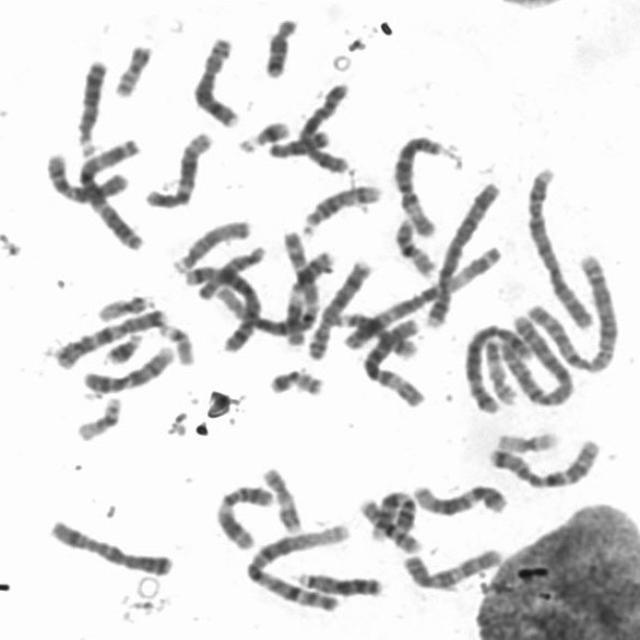A1: (216, 225, 322, 333), (240, 518, 352, 613)
A2: (514, 248, 622, 375), (491, 304, 579, 408)
A3: (337, 240, 507, 350), (72, 132, 148, 254)
B4: (418, 174, 504, 330), (522, 162, 595, 330)
B5: (182, 260, 264, 354), (460, 320, 536, 414)
C10: (398, 542, 506, 592), (40, 148, 131, 206)
C11: (278, 244, 336, 346), (212, 480, 278, 550)
C12: (140, 125, 216, 210), (408, 477, 510, 517)
C6: (355, 310, 427, 410), (390, 129, 452, 240)
C7: (51, 302, 170, 370), (484, 433, 602, 491)
C8: (302, 253, 376, 361), (188, 32, 242, 130)
C9: (79, 339, 179, 395), (372, 488, 430, 542)
D13: (71, 52, 110, 158), (293, 566, 384, 598)
D14: (296, 178, 383, 237), (330, 306, 417, 358)
D15: (167, 214, 255, 274), (193, 240, 268, 301)
E16: (356, 492, 424, 555), (389, 212, 440, 278)
E17: (258, 462, 306, 534), (479, 334, 520, 406)
E18: (259, 10, 301, 80), (263, 125, 331, 160)
F19: (70, 391, 124, 443), (492, 426, 562, 454)
F20: (108, 38, 155, 99), (263, 362, 328, 398)
G21: (232, 114, 292, 154), (98, 327, 146, 366)
G22: (92, 289, 158, 323), (154, 318, 198, 367)
X: (44, 514, 178, 578), (294, 78, 354, 175)
